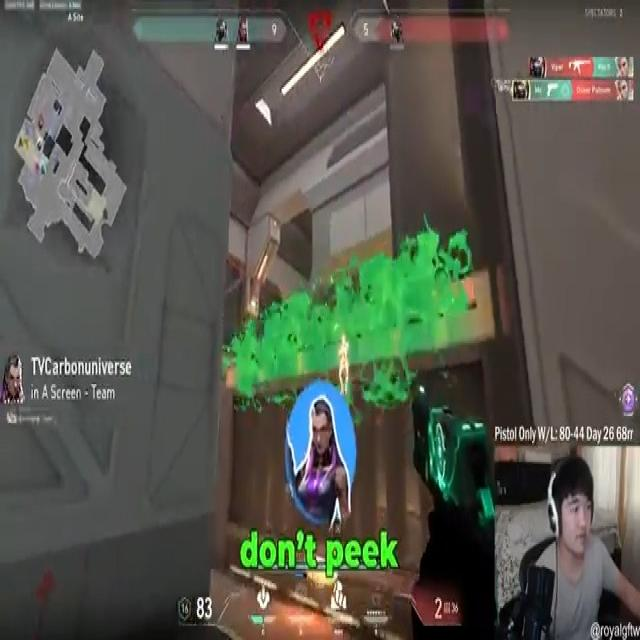enemy behind wall: (338, 332, 351, 399)
